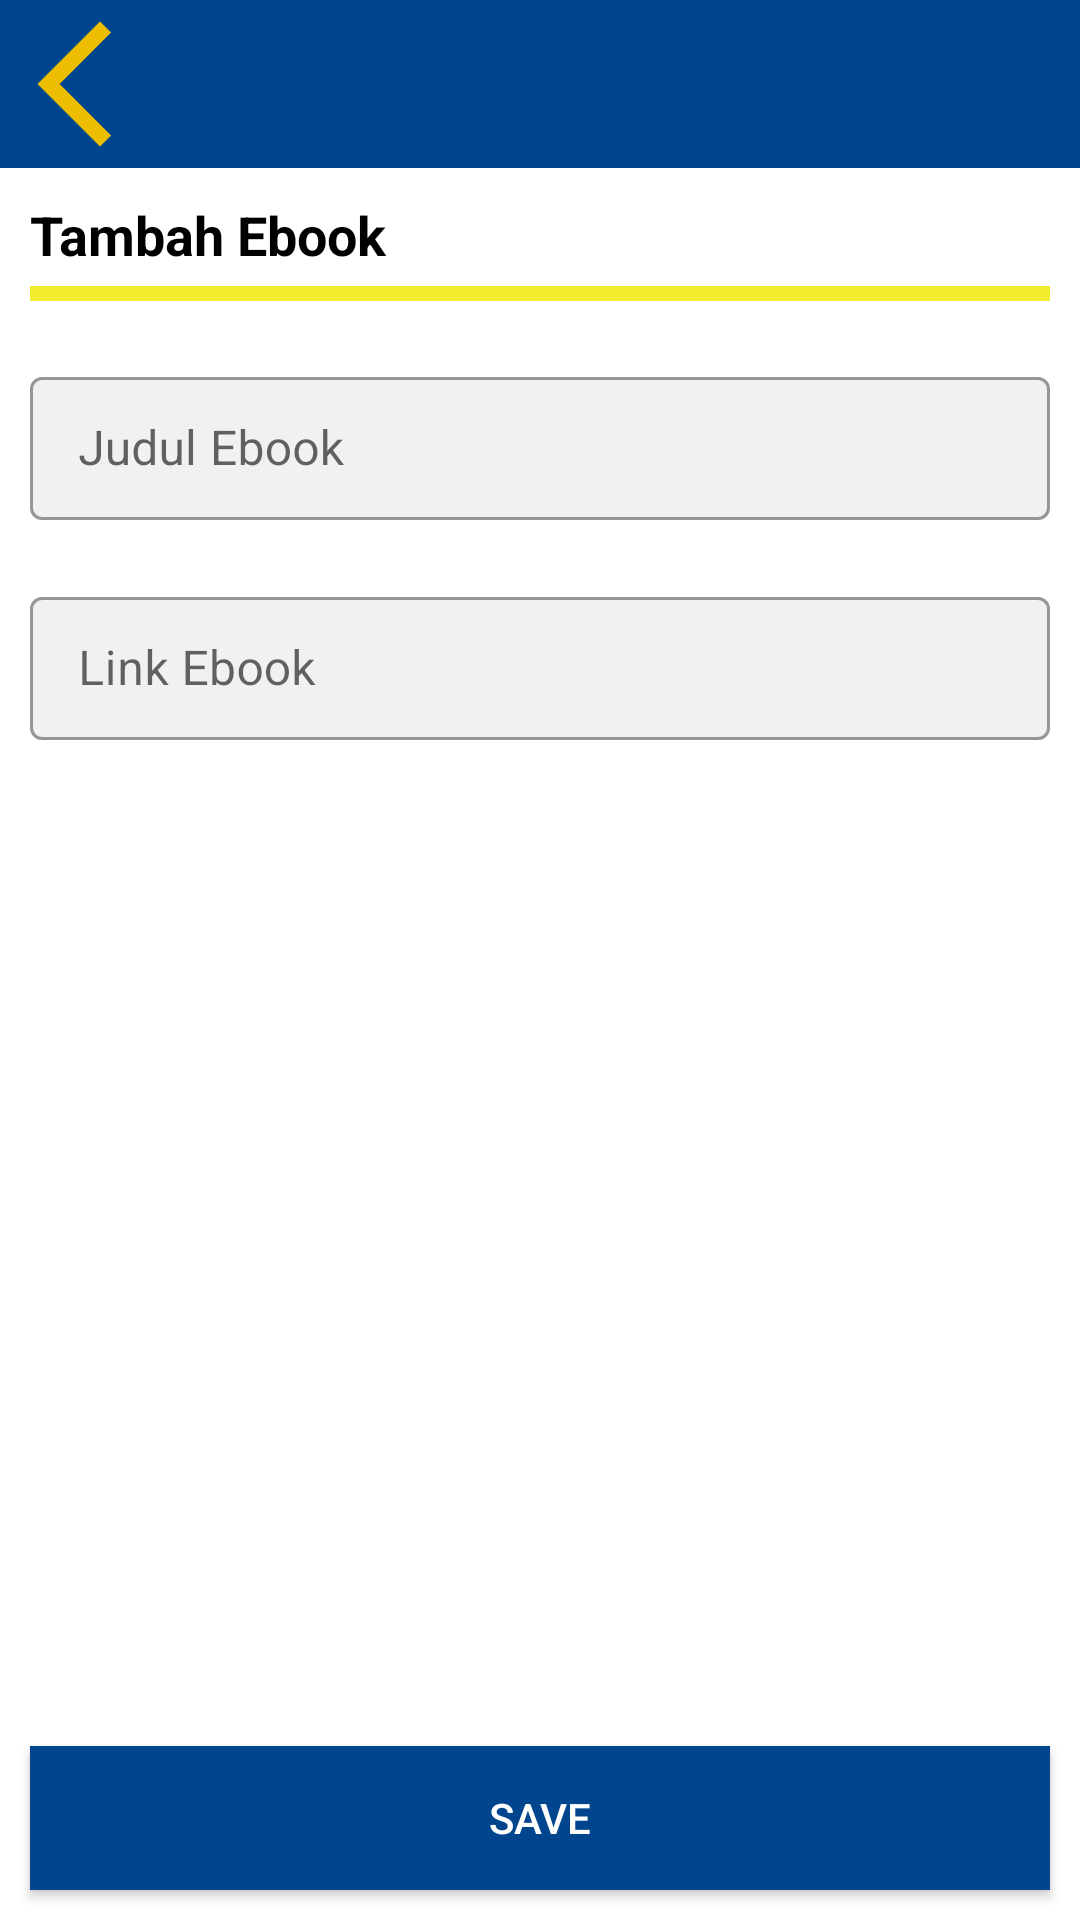

Screen size 1080px×1920px. Icon name, then its box in pixels as (x1, y1, x2, y2):
arrow back: (37, 21, 111, 147)
